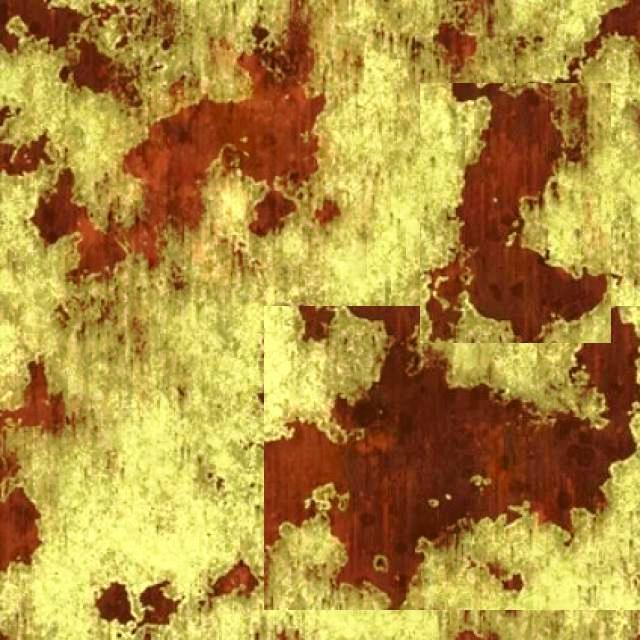Corrosion: (265, 309, 640, 610), (124, 0, 325, 266), (427, 83, 610, 342), (454, 84, 609, 342), (0, 0, 127, 92), (30, 168, 126, 280), (569, 0, 640, 80), (0, 456, 41, 574), (0, 359, 65, 430), (30, 168, 87, 244), (0, 489, 41, 572), (349, 307, 420, 342), (435, 21, 478, 72), (0, 131, 50, 174), (208, 560, 259, 600), (5, 130, 50, 175), (139, 581, 180, 626), (95, 584, 135, 626), (600, 0, 640, 38), (299, 306, 335, 342), (487, 562, 525, 594), (315, 198, 342, 226), (503, 575, 525, 594), (587, 42, 596, 54)
